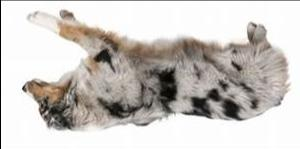dog: (21, 10, 291, 133)
